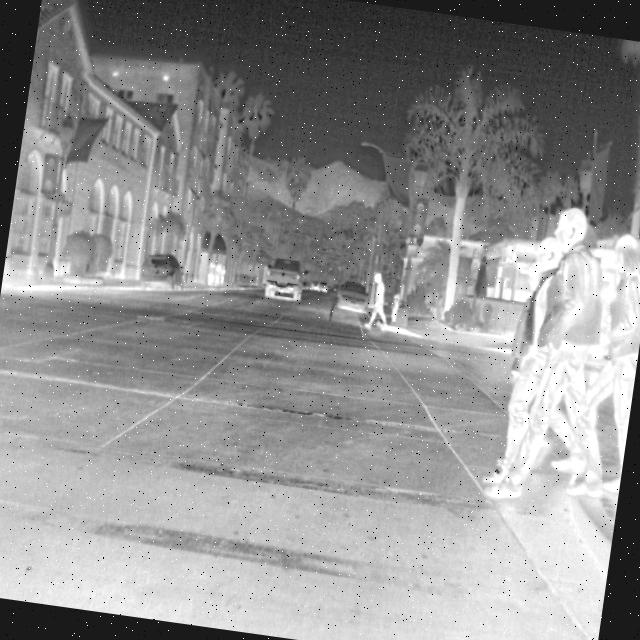Pedestrian: (494, 196, 640, 517), (488, 232, 572, 500), (564, 228, 640, 505), (363, 272, 396, 333)
Vehicle: (262, 254, 311, 304), (138, 248, 188, 293), (336, 278, 372, 315)
